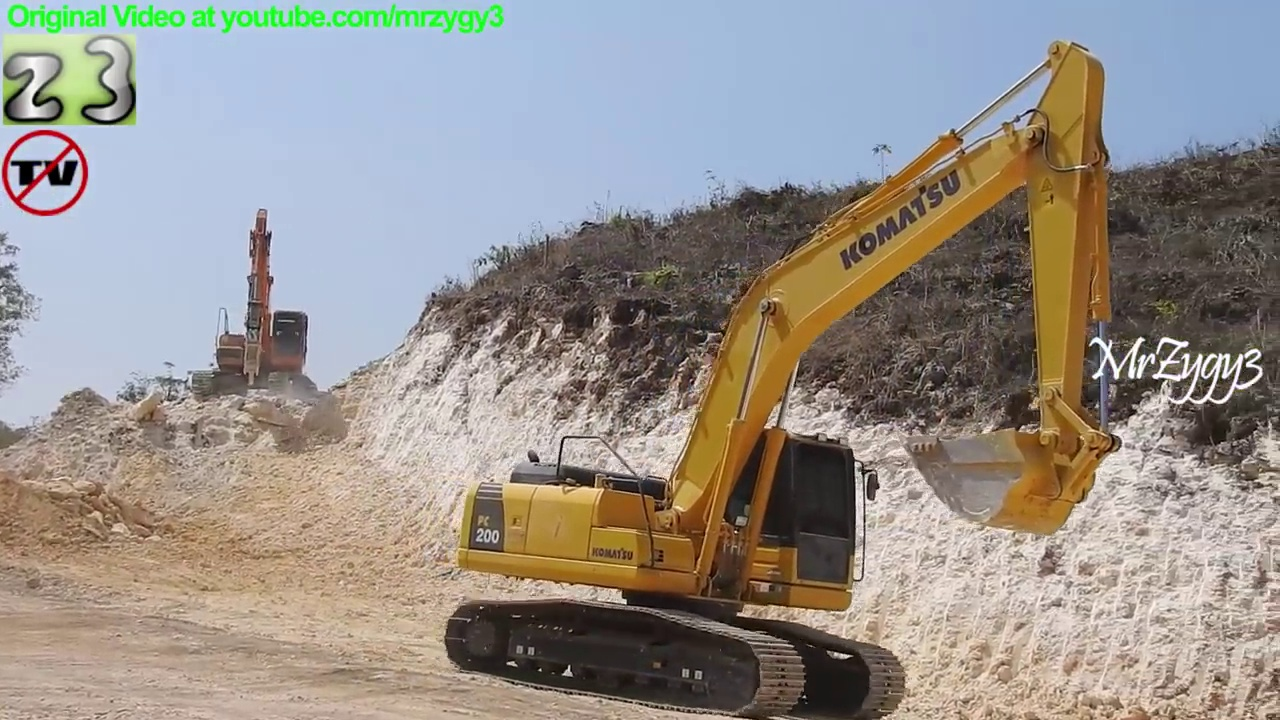excavator: (438, 36, 1129, 720)
excavator breaker: (185, 203, 326, 416)
